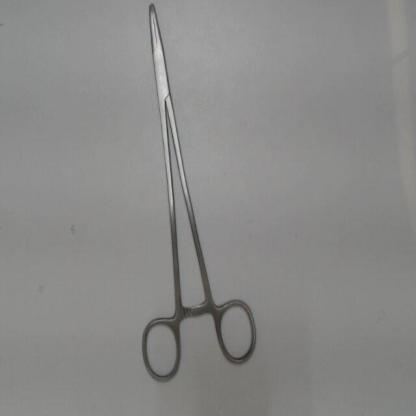8 Mayo Needle Holder: (134, 0, 268, 391)
